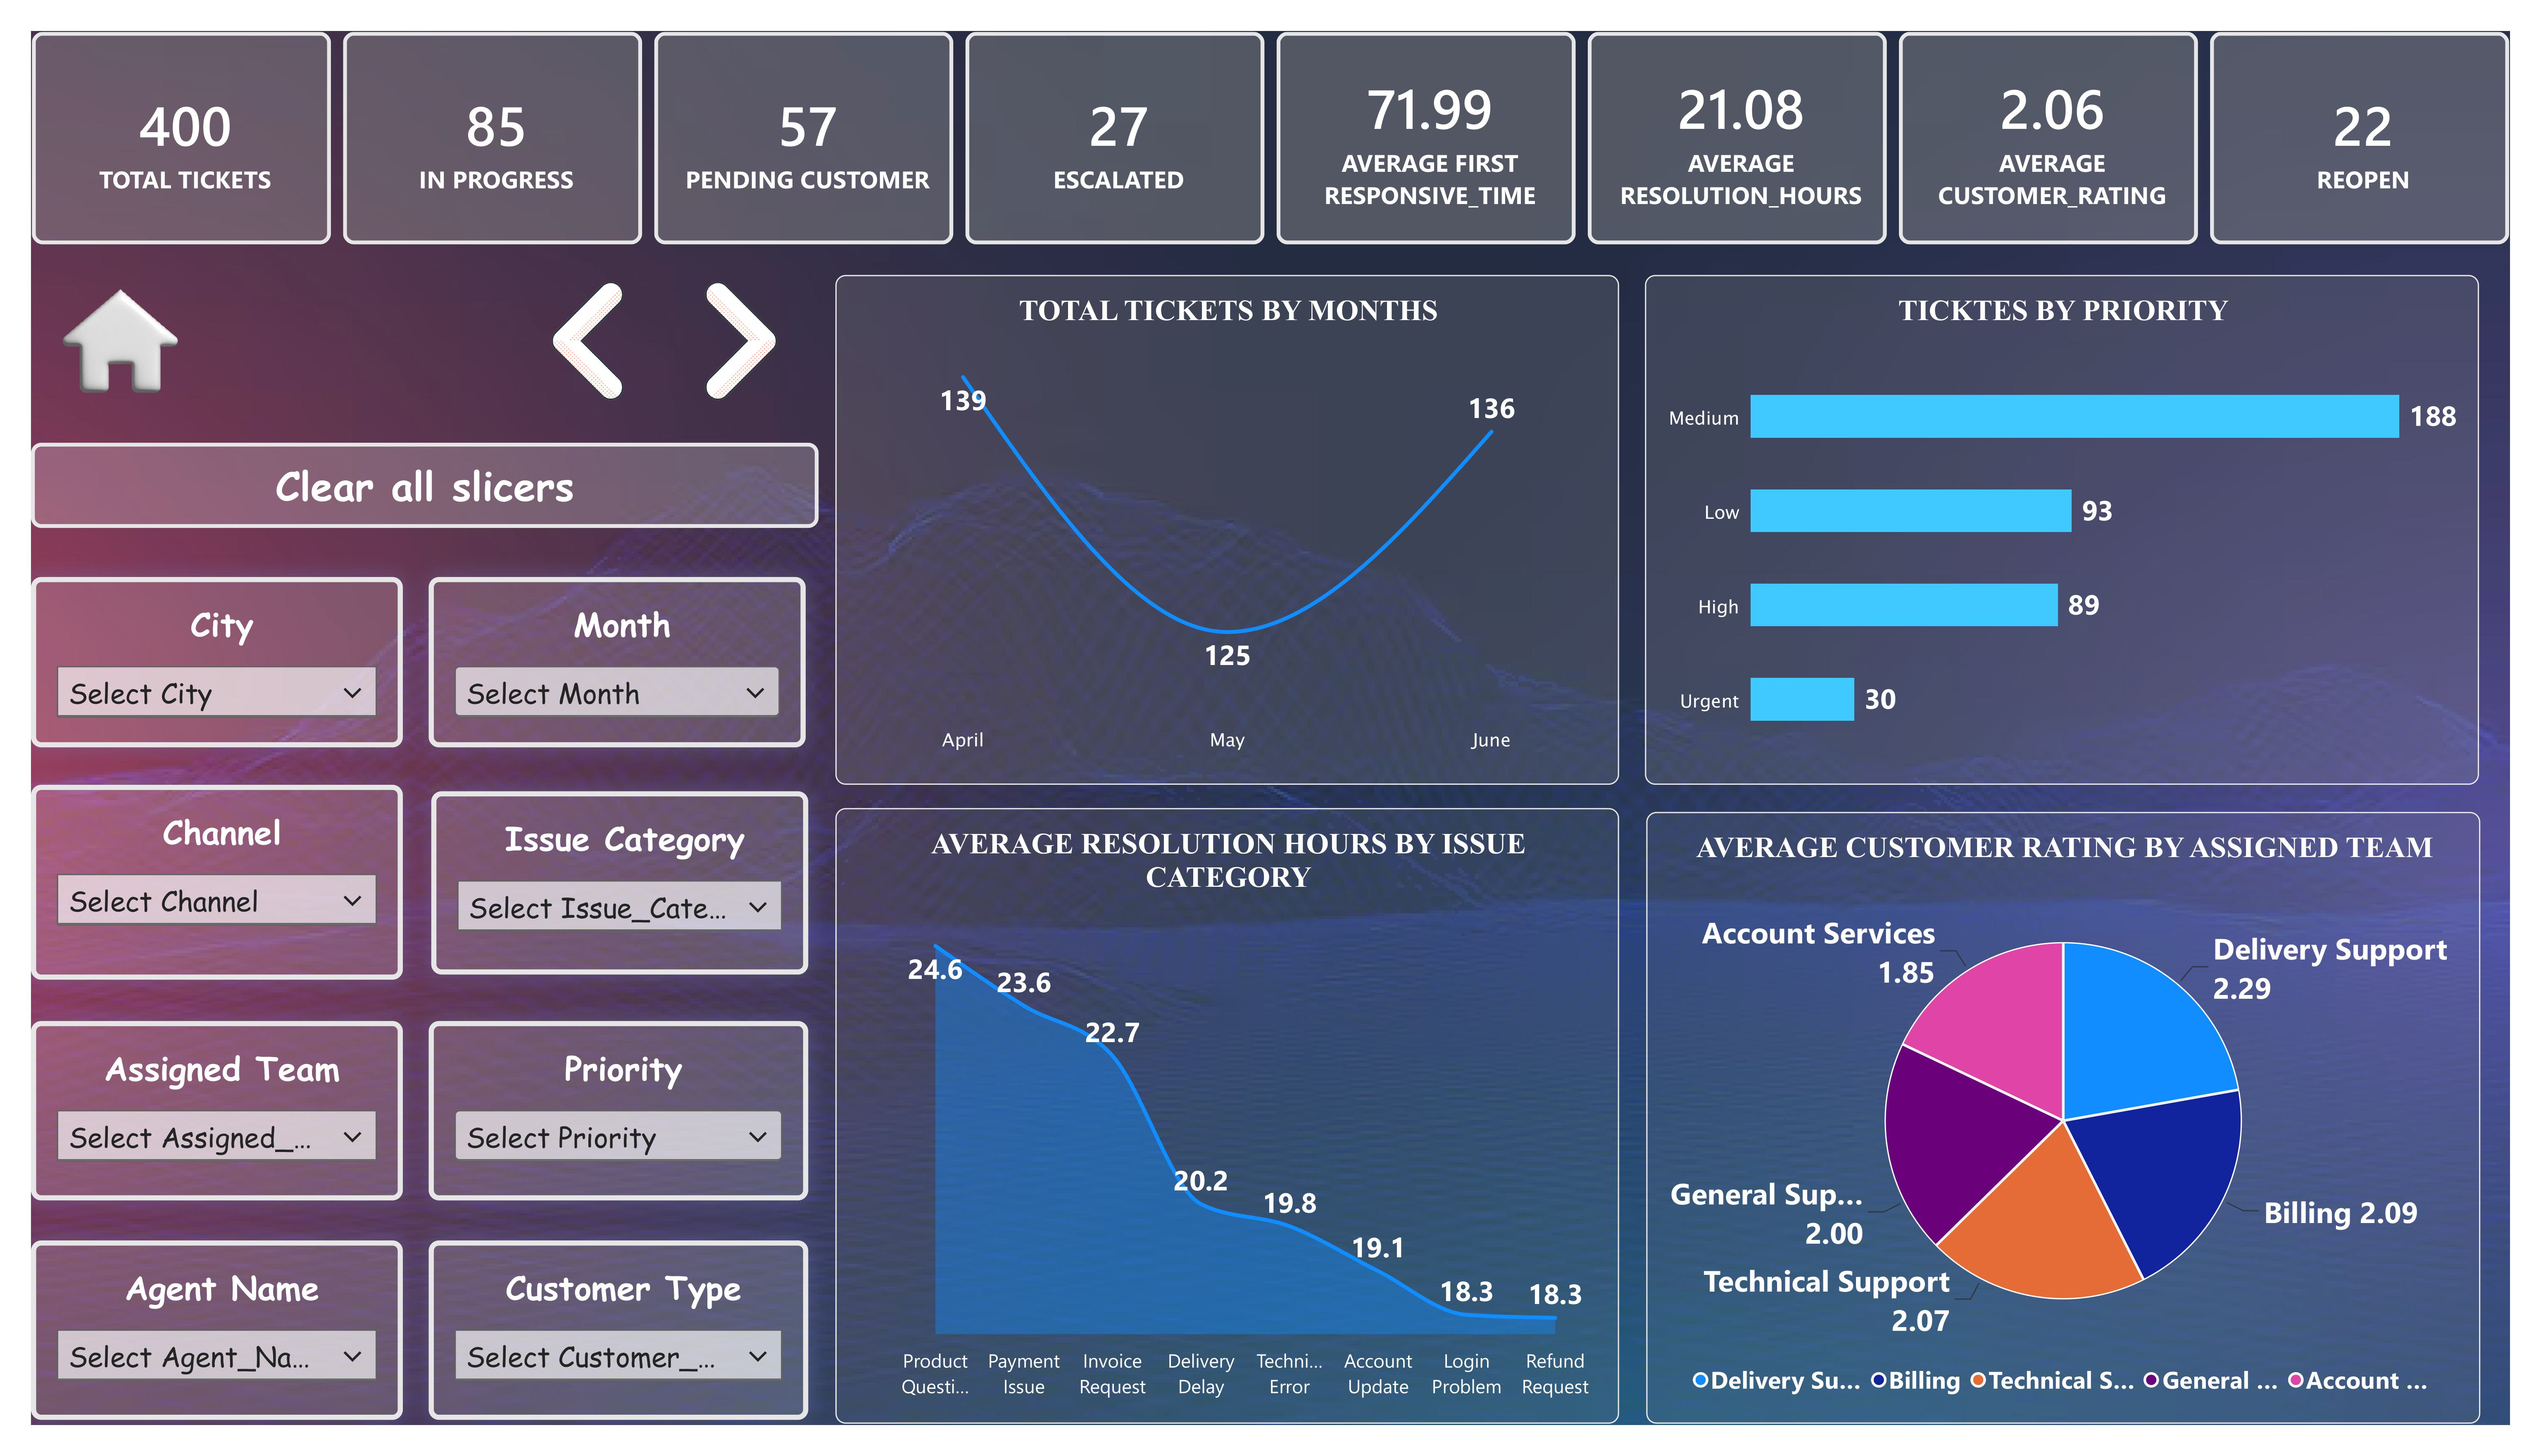

This screenshot's page, from the dashboard's own definition file:
{"tool":"powerbi","page":{"name":"Page 2","canvas":[1920,1080],"ordinal":1},"visuals":[{"type":"cardVisual","fields":{"Data":["_MEASURE.TOTAL_TICKETS","_MEASURE.IN_PROGRESS","_MEASURE.PENDING_CUSTOMER","_MEASURE.ESCALATED","_MEASURE.AVERAGE_RESOLUTION","_MEASURE.AVERAGE_RESOLUTION_HOURS","_MEASURE.AVERAGE_CUSTOMER_RATING","_MEASURE.RESPONSED"]},"box":[0,0,1920.4,166.1],"z":0},{"type":"lineChart","title":"TOTAL TICKETS BY MONTHS","fields":{"Category":["Customer_Support_Tickets.Created_Date.Variation.Date Hierarchy.Month"],"Y":["_MEASURE.TOTAL_TICKETS"]},"box":[622.7,189.4,607.1,394.4],"z":1000},{"type":"areaChart","title":"AVERAGE RESOLUTION HOURS BY ISSUE CATEGORY","fields":{"Category":["Customer_Support_Tickets.Issue_Category"],"Y":["_MEASURE.AVERAGE_RESOLUTION_HOURS"]},"box":[622.7,601.9,607.1,477.4],"z":2000},{"type":"clusteredBarChart","title":"TICKTES BY PRIORITY","fields":{"Category":["Customer_Support_Tickets.Priority"],"Y":["_MEASURE.TOTAL_TICKETS"]},"box":[1249.8,188.9,646.3,395.2],"z":3000},{"type":"pieChart","title":"AVERAGE CUSTOMER RATING BY ASSIGNED TEAM","fields":{"Category":["Customer_Support_Tickets.Assigned_Team"],"Y":["_MEASURE.AVERAGE_CUSTOMER_RATING"]},"box":[1250.6,604.5,646.1,474.8],"z":4000},{"type":"group","id":"g1","title":"Group 1","box":[0,422.9,601.9,656.4],"z":5000},{"type":"listSlicer","fields":{"Values":["Customer_Support_Tickets.City"]},"box":[0,422.9,287.7,132.1],"z":5000,"group":"g1"},{"type":"actionButton","box":[0,319.1,609.8,66.2],"z":6000},{"type":"listSlicer","fields":{"Values":["Customer_Support_Tickets.Channel"]},"box":[0,583.9,287.7,151.4],"z":6000,"group":"g1"},{"type":"group","id":"g2","title":"Group 2","box":[0,188.9,610.4,101.7],"z":6001},{"type":"listSlicer","title":"Assigned Team","fields":{"Values":["Customer_Support_Tickets.Assigned_Team"]},"box":[0,766.5,287.7,139.3],"z":7000,"group":"g1"},{"type":"listSlicer","title":"Issue Category","fields":{"Values":["Customer_Support_Tickets.Issue_Category"]},"box":[310.2,588.7,291.8,141.7],"z":8000,"group":"g1"},{"type":"listSlicer","title":"Month","fields":{"Values":["Customer_Support_Tickets.Created_Date.Variation.Date Hierarchy.Month"]},"box":[308.1,422.9,291.8,132.1],"z":9000,"group":"g1"},{"type":"image","box":[0,188.9,137.1,101.7],"z":10000,"group":"g2"},{"type":"listSlicer","title":"Priority","fields":{"Values":["Customer_Support_Tickets.Priority"]},"box":[308.1,766.5,293.8,139.3],"z":10000,"group":"g1"},{"type":"image","box":[490.4,188.9,119.9,101.7],"z":11000,"group":"g2"},{"type":"listSlicer","title":"Agent Name","fields":{"Values":["Customer_Support_Tickets.Agent_Name"]},"box":[0,937,287.7,139.3],"z":11000,"group":"g1"},{"type":"listSlicer","title":"Customer Type","fields":{"Values":["Customer_Support_Tickets.Customer_Type"]},"box":[308.1,937,293.8,139.3],"z":12000,"group":"g1"},{"type":"image","box":[370.5,188.9,119.9,101.7],"z":13000,"group":"g2"}]}

Visuals, with their boxes on the page's 1920x1080 design canvas (x1, y1, x2, y2). These are canvas units, not pixel positions in the 2541x1456 screenshot, which may show the page scaled, cropped or inside an application window:
cardVisual - _MEASURE.TOTAL_TICKETS x _MEASURE.IN_PROGRESS: [0,0,1920,166]
"TOTAL TICKETS BY MONTHS" lineChart: [623,189,1230,584]
"AVERAGE RESOLUTION HOURS BY ISSUE CATEGORY" areaChart: [623,602,1230,1079]
"TICKTES BY PRIORITY" clusteredBarChart: [1250,189,1896,584]
"AVERAGE CUSTOMER RATING BY ASSIGNED TEAM" pieChart: [1251,604,1897,1079]
"Group 1" group: [0,423,602,1079]
listSlicer - Customer_Support_Tickets.City: [0,423,288,555]
actionButton: [0,319,610,385]
listSlicer - Customer_Support_Tickets.Channel: [0,584,288,735]
"Group 2" group: [0,189,610,291]
"Assigned Team" listSlicer: [0,766,288,906]
"Issue Category" listSlicer: [310,589,602,730]
"Month" listSlicer: [308,423,600,555]
image: [0,189,137,291]
"Priority" listSlicer: [308,766,602,906]
image: [490,189,610,291]
"Agent Name" listSlicer: [0,937,288,1076]
"Customer Type" listSlicer: [308,937,602,1076]
image: [370,189,490,291]
